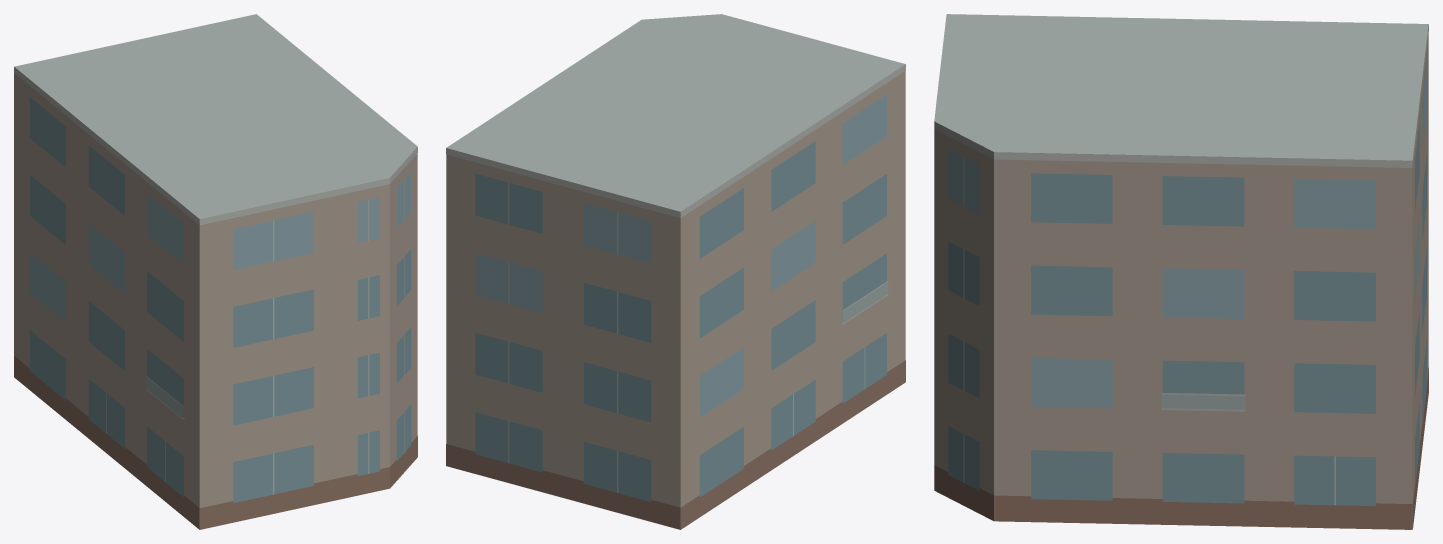
File: residential-401685c8-ed07-4382-a0fc-e588067c43a6.glb
3 views of the same model, side by side, from view 1: azimuth 30°, elevation 25°; view 2: azimuth 150°, elevation 25°; view 3: azimuth 270°, elevation 25° (orthographic). The views are drawn at different scales.
Visible parts, largest first — view 1: residential-401685c8-ed07-4382-a0fc-e588067c43a6.tmp; view 2: residential-401685c8-ed07-4382-a0fc-e588067c43a6.tmp; view 3: residential-401685c8-ed07-4382-a0fc-e588067c43a6.tmp.
Boxes of the visible parts, <box> form: residential-401685c8-ed07-4382-a0fc-e588067c43a6.tmp: <box>14,14,417,529</box>; residential-401685c8-ed07-4382-a0fc-e588067c43a6.tmp: <box>446,14,905,529</box>; residential-401685c8-ed07-4382-a0fc-e588067c43a6.tmp: <box>934,14,1428,529</box>.
Size of the model in its own units: 10.4 by 12.2 by 14.82.
